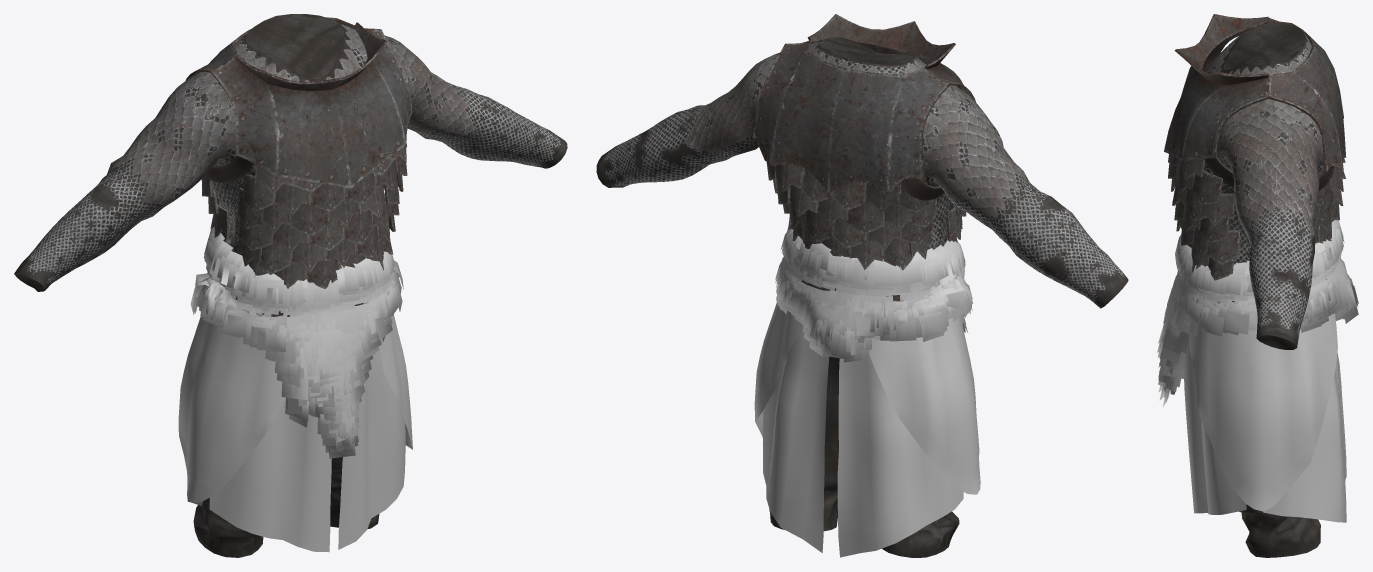
File: sk_gb_uruk_chest_heavy_f.fbx
3 renders of one model, left to right at view 1: azimuth 30°, elevation 25°; view 2: azimuth 150°, elevation 25°; view 3: azimuth 270°, elevation 25°, orthographic. The views are drawn at different scales.
Parts seen in each view (by area): view 1: sk_gb_uruk_chest_heavy_f.base.0, sk_gb_uruk_chest_heavy_f.base.2, sk_gb_uruk_chest_heavy_f.skirt.1, sk_gb_uruk_chest_heavy_f.skirt.2, sk_gb_uruk_chest_heavy_f.base.1; view 2: sk_gb_uruk_chest_heavy_f.skirt.1, sk_gb_uruk_chest_heavy_f.base.0, sk_gb_uruk_chest_heavy_f.base.2, sk_gb_uruk_chest_heavy_f.skirt.2, sk_gb_uruk_chest_heavy_f.base.1; view 3: sk_gb_uruk_chest_heavy_f.skirt.1, sk_gb_uruk_chest_heavy_f.base.0, sk_gb_uruk_chest_heavy_f.base.2, sk_gb_uruk_chest_heavy_f.skirt.2, sk_gb_uruk_chest_heavy_f.base.1.
Part boxes in pixels (<box>): sk_gb_uruk_chest_heavy_f.base.0: <box>14,14,567,557</box>; sk_gb_uruk_chest_heavy_f.base.2: <box>185,17,412,288</box>; sk_gb_uruk_chest_heavy_f.skirt.1: <box>178,314,412,552</box>; sk_gb_uruk_chest_heavy_f.skirt.2: <box>190,221,403,458</box>; sk_gb_uruk_chest_heavy_f.base.1: <box>205,155,253,182</box>; sk_gb_uruk_chest_heavy_f.skirt.1: <box>754,302,980,557</box>; sk_gb_uruk_chest_heavy_f.base.0: <box>596,37,1128,557</box>; sk_gb_uruk_chest_heavy_f.base.2: <box>752,14,975,270</box>; sk_gb_uruk_chest_heavy_f.skirt.2: <box>775,227,972,362</box>; sk_gb_uruk_chest_heavy_f.base.1: <box>757,140,944,200</box>; sk_gb_uruk_chest_heavy_f.skirt.1: <box>1183,312,1346,522</box>; sk_gb_uruk_chest_heavy_f.base.0: <box>1204,22,1323,557</box>; sk_gb_uruk_chest_heavy_f.base.2: <box>1164,14,1346,280</box>; sk_gb_uruk_chest_heavy_f.skirt.2: <box>1157,220,1358,406</box>; sk_gb_uruk_chest_heavy_f.base.1: <box>1204,157,1334,190</box>.
Bounding box in the file's own units: 1.35 × 0.4541 × 1.2.
